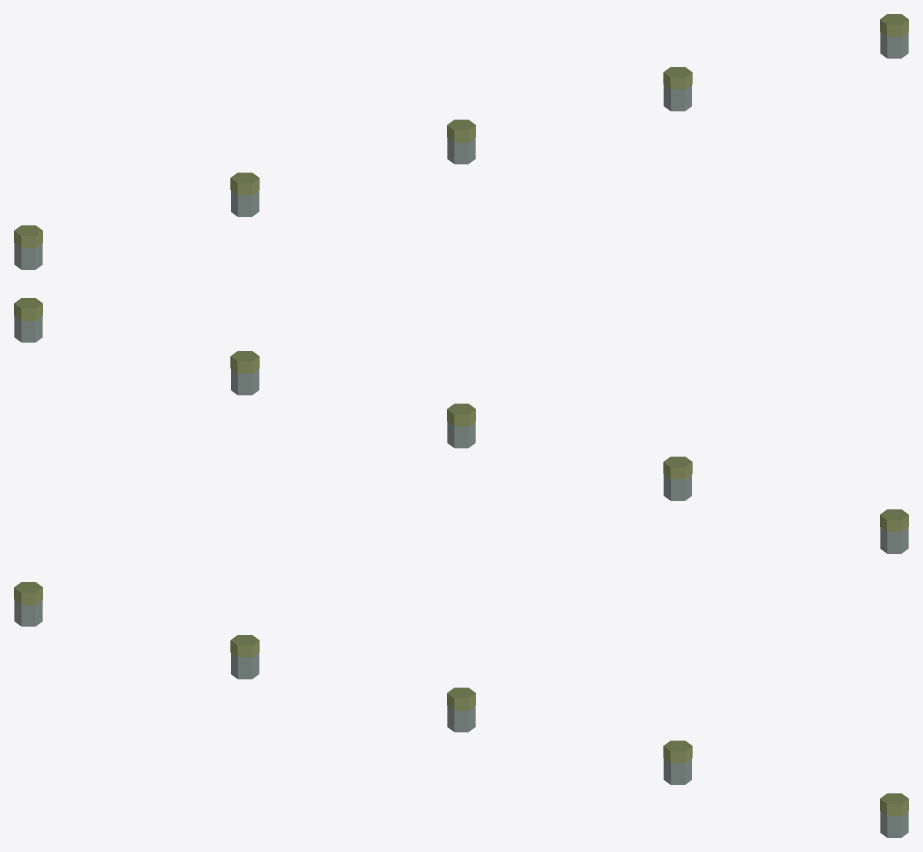
File: SM_Balizas_v1_Verdes_LOD1.fbx
3 views of the same model, one above another, from view 1: azimuth 30°, elevation 25°; view 2: azimuth 150°, elevation 25°; view 3: azimuth 330°, elevation 25° (orthographic).
Visible parts, largest first — view 1: SM_ambiente_aerodromo_v6_LOD1; view 2: SM_ambiente_aerodromo_v6_LOD1; view 3: SM_ambiente_aerodromo_v6_LOD1.
Boxes of the visible parts, x1,y1,x2,y2 form: SM_ambiente_aerodromo_v6_LOD1: (14, 14, 908, 269); SM_ambiente_aerodromo_v6_LOD1: (14, 298, 908, 553); SM_ambiente_aerodromo_v6_LOD1: (14, 582, 908, 837).
Bounding box in the file's own units: 12.3 × 0.45 × 0.35.
